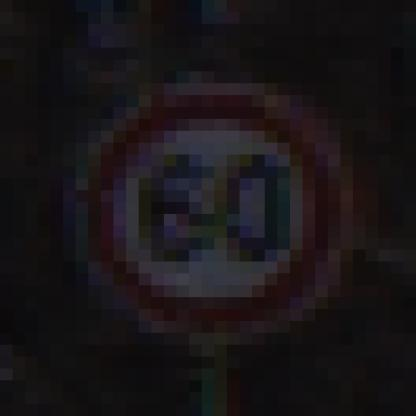Speed Limit 60: (87, 91, 343, 328)
